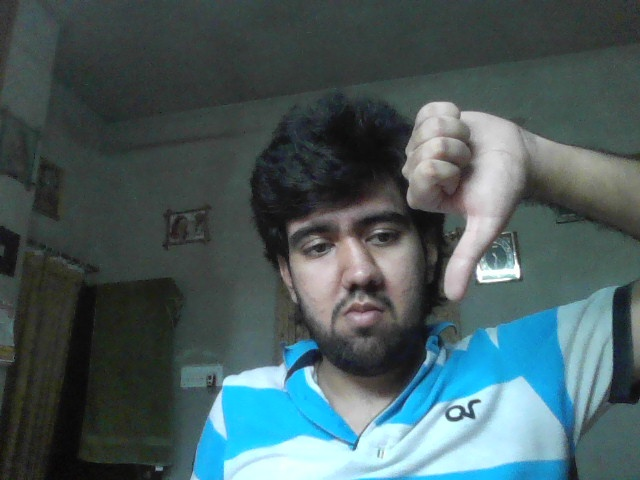NotOk: (407, 101, 526, 299)
